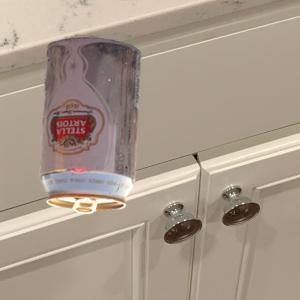can: (39, 35, 142, 213)
